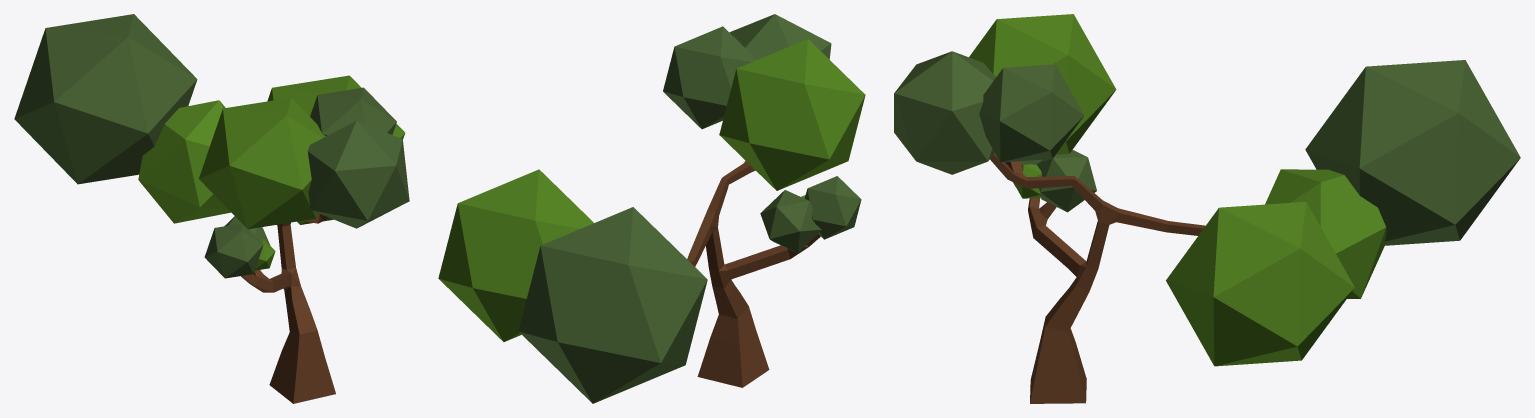
File: Tree2.fbx
3 views of the same model, side by side, from view 1: azimuth 30°, elevation 25°; view 2: azimuth 150°, elevation 25°; view 3: azimuth 270°, elevation 25° (orthographic). The views are drawn at different scales.
Visible parts, largest first — view 1: Tree2; view 2: Tree2; view 3: Tree2.
Boxes of the visible parts, x1=… form: Tree2: x1=14, y1=14, x2=409, y2=403; Tree2: x1=438, y1=14, x2=865, y2=403; Tree2: x1=894, y1=14, x2=1520, y2=403.
Bounding box in the file's own units: 334 × 343 × 557.
